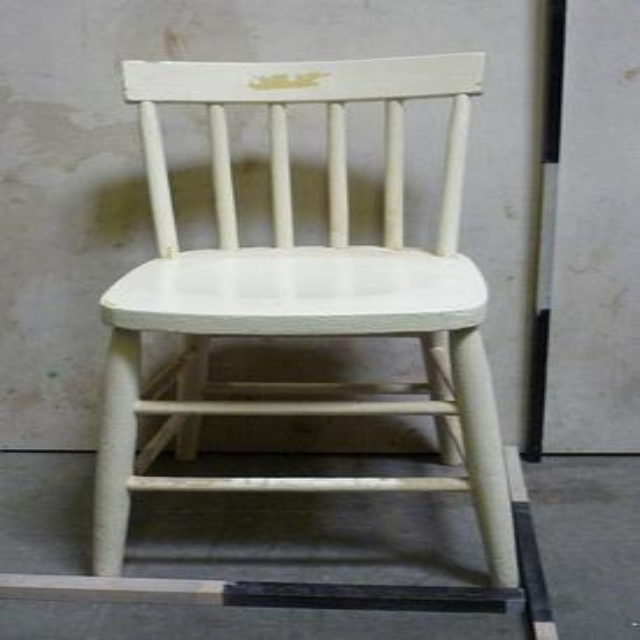obstacle: (93, 53, 517, 587)
